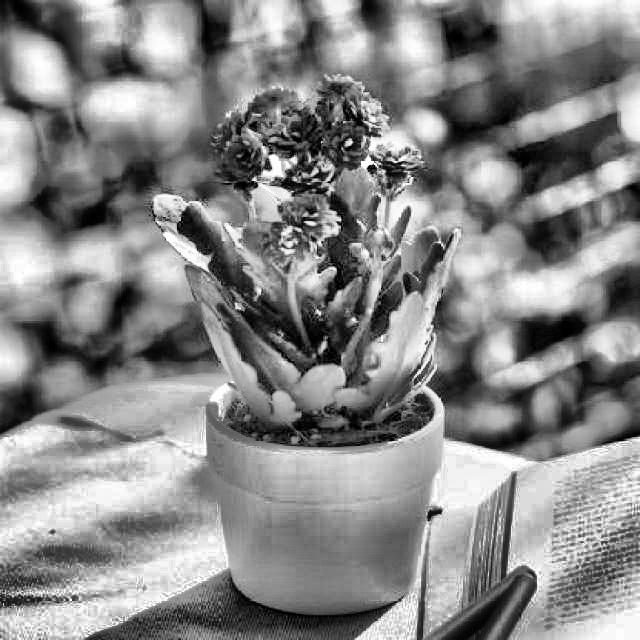plants: (198, 85, 440, 618)
